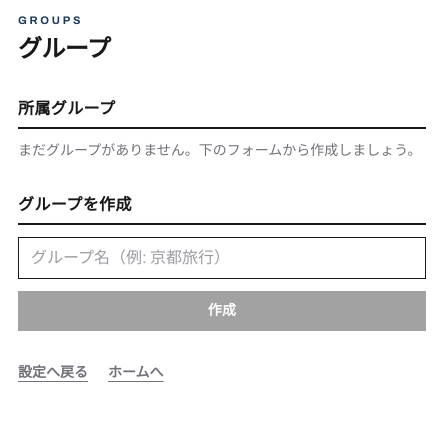
it: 作成に失敗するとエラーメッセージを表示する
Type "失敗するグループ" into the field labelled "グループ名" at (222, 258), box [18, 236, 426, 278]
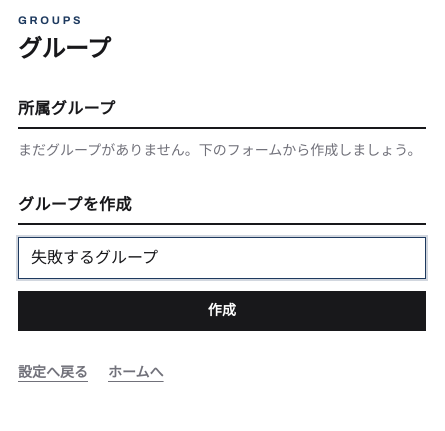
Click the button "作成" at (222, 310), box [18, 290, 426, 330]
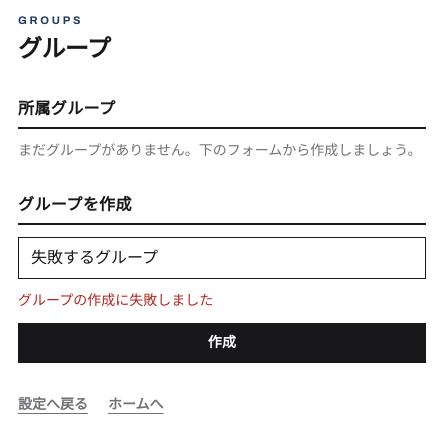
Check: the text "グループの作成に失敗しました" is shown, box [18, 292, 213, 308]
